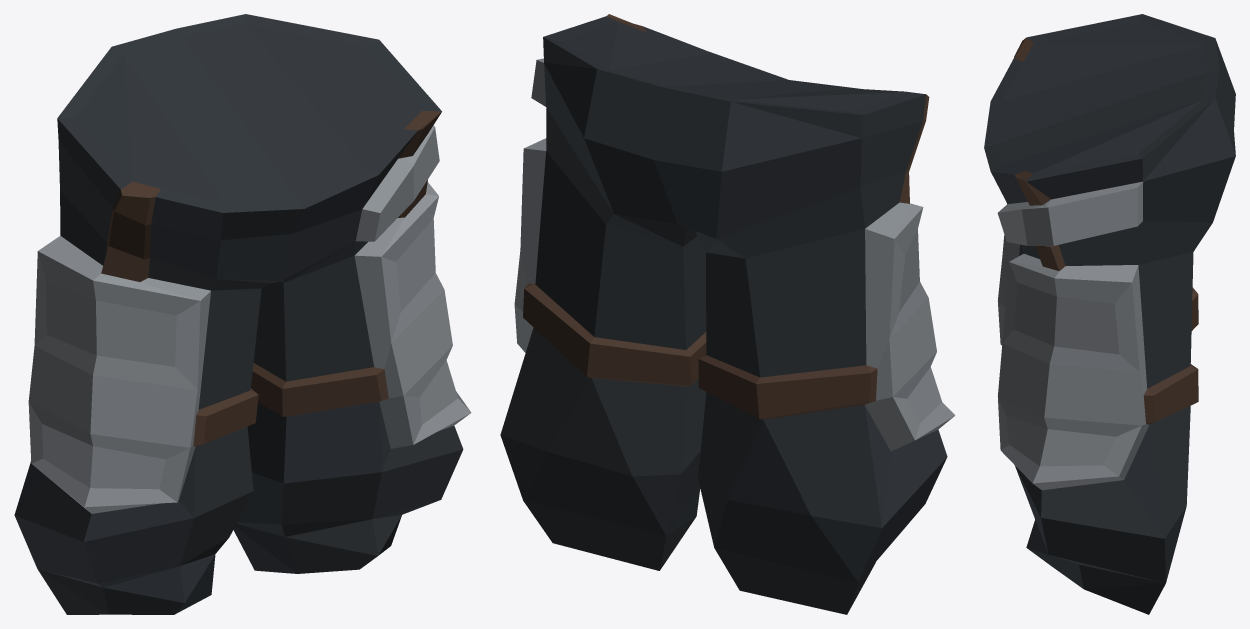
File: Chr_Hips_Female_02_Static.fbx
The picture shows the model from 3 angles, left to right: view 1: azimuth 30°, elevation 25°; view 2: azimuth 150°, elevation 25°; view 3: azimuth 270°, elevation 25°; orthographic projection. The views are drawn at different scales.
Parts seen in each view (by area): view 1: Chr_Hips_Female_02_Static; view 2: Chr_Hips_Female_02_Static; view 3: Chr_Hips_Female_02_Static.
Part boxes in pixels (x1,y1,x2,y2): Chr_Hips_Female_02_Static: (14, 14, 471, 614); Chr_Hips_Female_02_Static: (500, 14, 955, 614); Chr_Hips_Female_02_Static: (984, 14, 1235, 614).
Bounding box in the file's own units: 0.4633 × 0.5806 × 0.2749.
